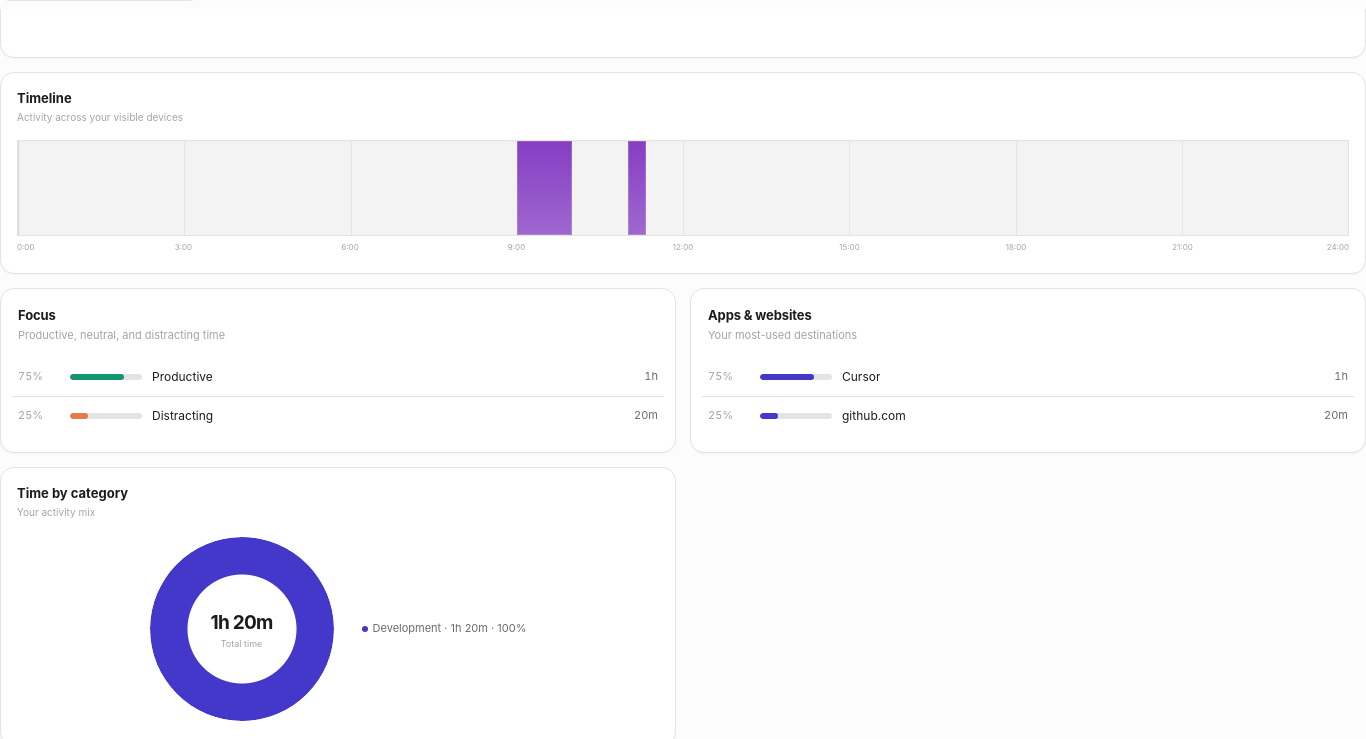
Test: InsightsScreen › shows focus totals and filters the day to that verdict
(page scrolled)
expect the button with aria-label "Highlight Distracting on the timeline" is shown: met, box 12,397 -> 664,435
Click the button with aria-label "Highlight Productive on the timeline": (106, 377) 12,358 -> 664,396
(page scrolled)
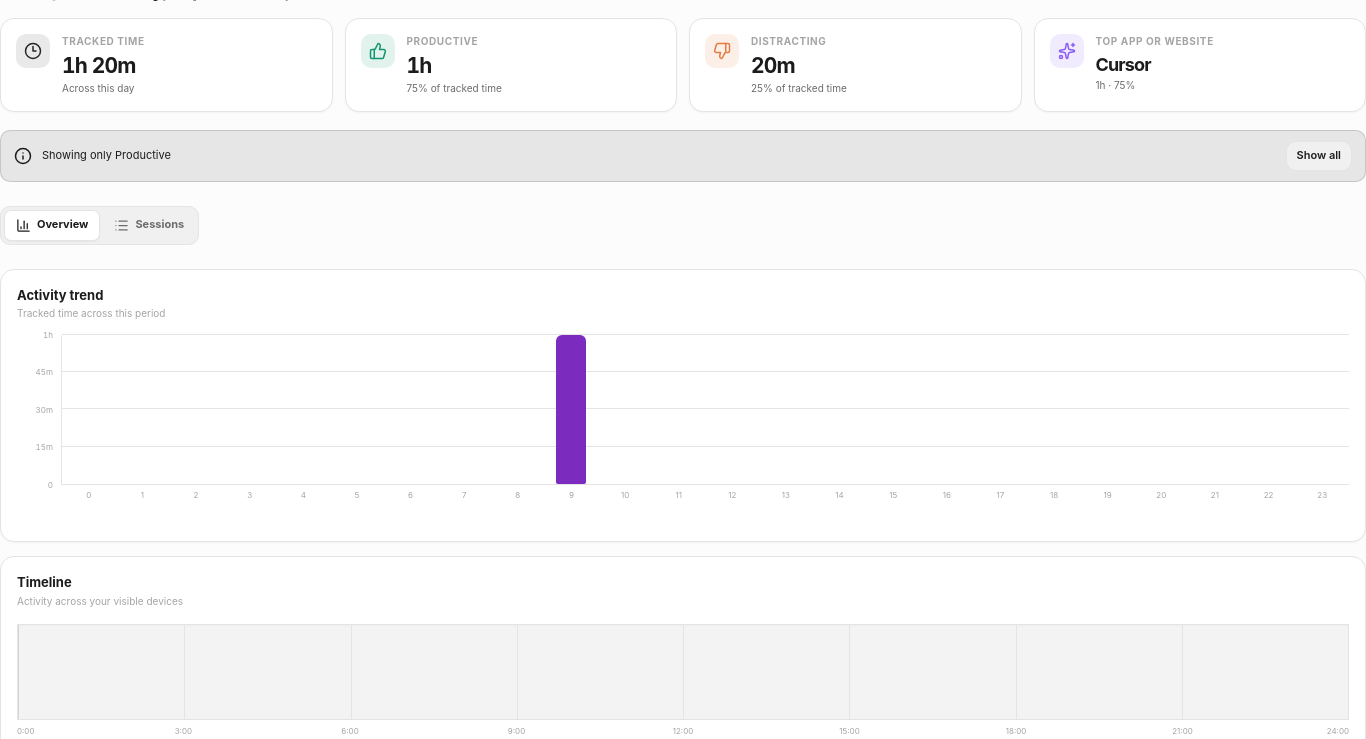
expect the message shows "Showing only Productive": met, box 0,130 -> 1365,182
